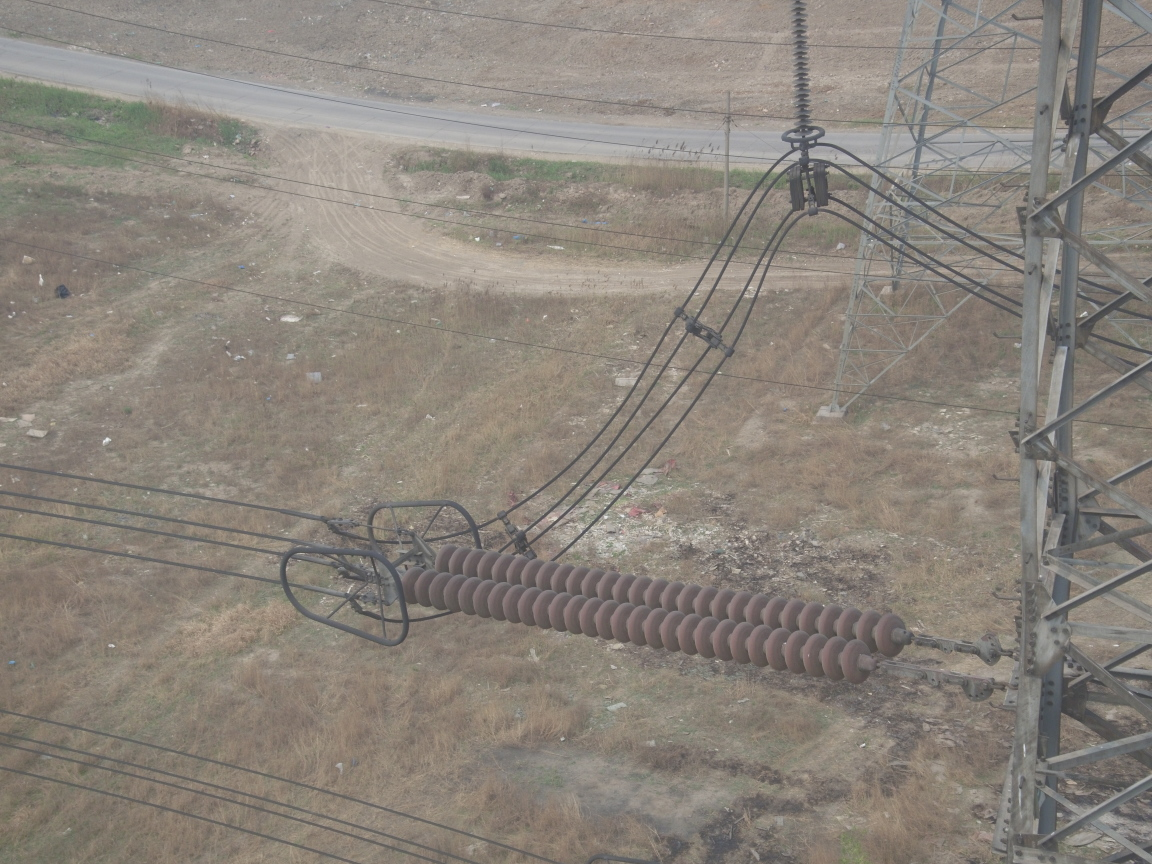insulator: (395, 542, 937, 687)
